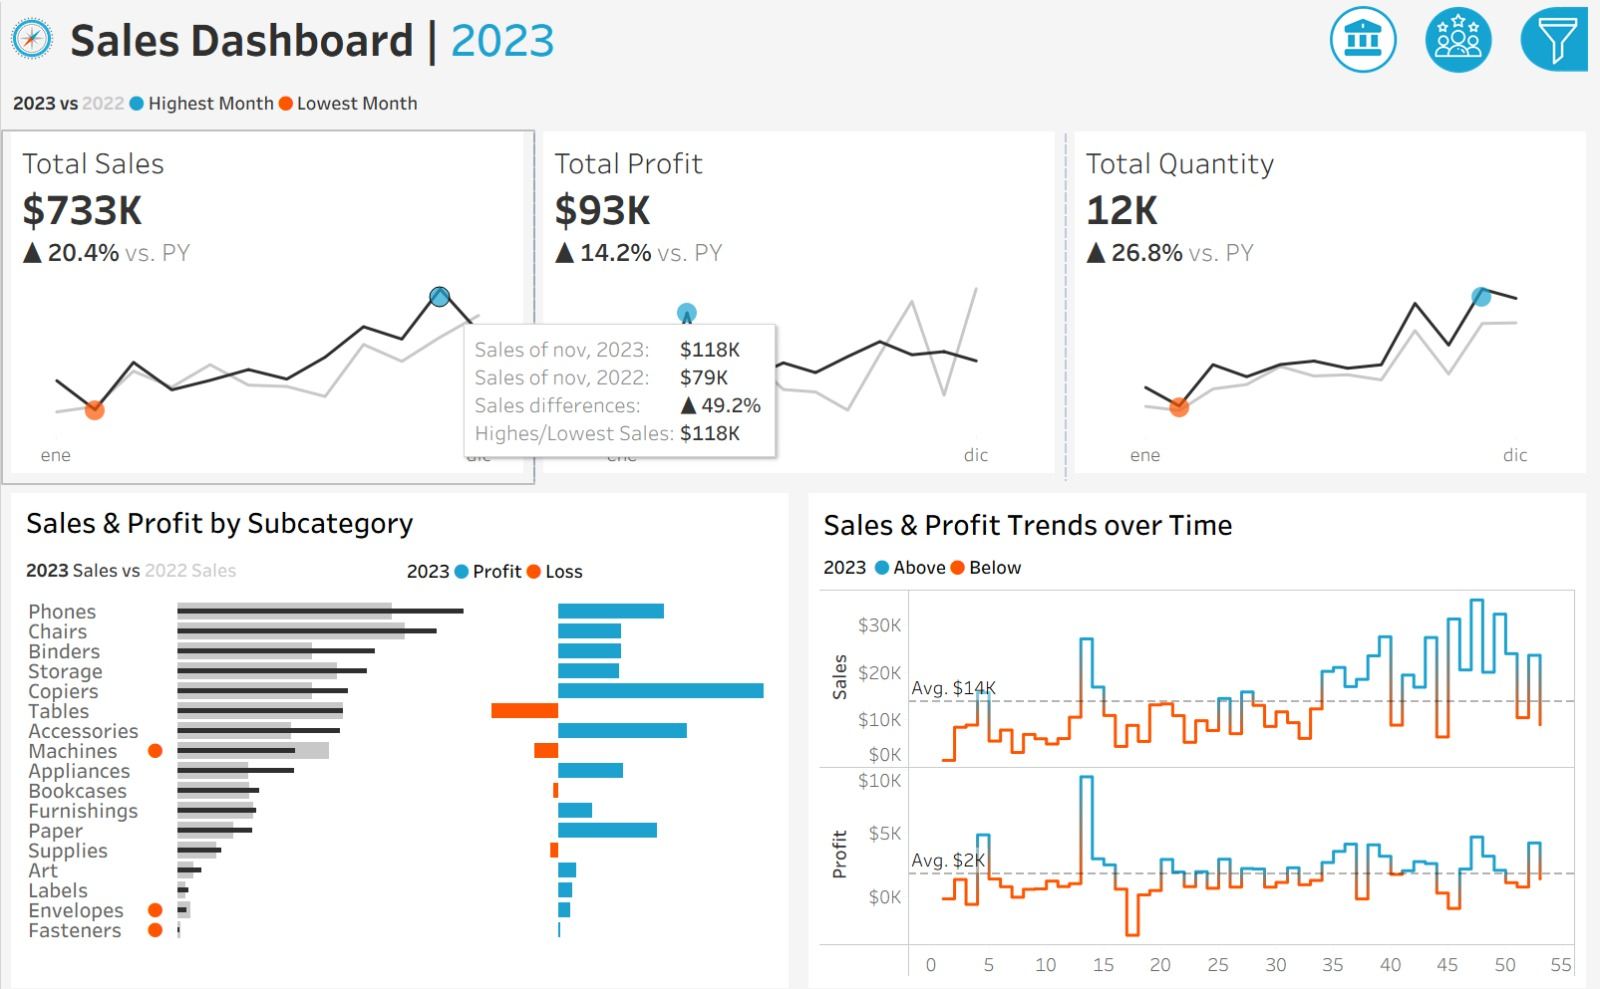

This screenshot's page, from the dashboard's own definition file:
{"tool":"tableau","page":{"name":"Sales Dashboard","canvas":[1600,1000],"ordinal":1},"visuals":[{"type":"image","param":"C:/Users/thean/Documents/Tableau/Curso Udemy/sales-dashboard-project (1)/sales-d","box":[0,0,61,72]},{"type":"text","box":[61,0,866,72]},{"type":"blank","box":[1244.7,10,342.7,90]},{"type":"worksheet","title":"Legends KPI","mark":"Automatic","box":[0,72,1600,58]},{"type":"text","box":[1244.7,100,342.7,47]},{"type":"worksheet","title":"KPI Sales","mark":"Automatic","rows":["Calculation_0924144765349892"],"cols":["Order Date"],"box":[0,130,534,353]},{"type":"worksheet","title":"KPI Profit","mark":"Automatic","rows":["Calculation_1171260201799683"],"cols":["Order Date"],"box":[534,130,533,353]},{"type":"worksheet","title":"KPI Quantity","mark":"Automatic","rows":["Calculation_1171260283650057"],"cols":["Order Date"],"box":[1067,130,533,353]},{"type":"parameter","param":"[Parameters].[Parámetro 1]","box":[1244.7,147,342.7,60]},{"type":"text","box":[1244.7,207,342.7,42]},{"type":"filter","title":"KPI Sales","param":"[federated.1usaflp05rs750141jv3z0yhu4k8].[none:Category:nk]","box":[1244.7,249,342.7,70]},{"type":"filter","title":"KPI Sales","param":"[federated.1usaflp05rs750141jv3z0yhu4k8].[none:Sub-Category:nk]","box":[1244.7,319,342.7,70]},{"type":"text","box":[1244.7,389,342.7,42]},{"type":"filter","title":"KPI Sales","param":"[federated.1usaflp05rs750141jv3z0yhu4k8].[none:Region:nk]","box":[1244.7,431,342.7,70]},{"type":"text","box":[17,500,766,44]},{"type":"text","box":[817,500,766,47]},{"type":"filter","title":"KPI Sales","param":"[federated.1usaflp05rs750141jv3z0yhu4k8].[none:State:nk]","box":[1244.7,501,342.7,70]},{"type":"worksheet","title":"Legends Subcategories","mark":"Automatic","box":[17,544,382,53]},{"type":"text","box":[399,544,384,53]},{"type":"text","box":[817,547,766,39]},{"type":"filter","title":"KPI Sales","param":"[federated.1usaflp05rs750141jv3z0yhu4k8].[none:City:nk]","box":[1244.7,571,342.7,70]},{"type":"worksheet","title":"Weekly Trends","mark":"Automatic","rows":["Calculation_0924144758165504","Calculation_1171260200882176"],"cols":["Order Date"],"box":[817,586,766,397]},{"type":"worksheet","title":"Subcategory Comparison","mark":"Bar","rows":["Sub-Category","Calculation_1171260304085005"],"cols":["CY sales (copia)_0924144758652929","Calculation_0924144758165504","Calculation_1171260200882176"],"box":[17,597,766,386]}]}

Visuals, with their boxes in screenshot pixels (x1, y1, x2, y2), scaled from the page's 1600x1000 canvas onto the 1600x989 screenshot:
image: l=0, t=0, r=61, b=71
text: l=61, t=0, r=927, b=71
blank: l=1245, t=10, r=1587, b=99
"Legends KPI" worksheet: l=0, t=71, r=1599, b=129
text: l=1245, t=99, r=1587, b=145
"KPI Sales" worksheet: l=0, t=129, r=534, b=478
"KPI Profit" worksheet: l=534, t=129, r=1067, b=478
"KPI Quantity" worksheet: l=1067, t=129, r=1599, b=478
parameter: l=1245, t=145, r=1587, b=205
text: l=1245, t=205, r=1587, b=246
"KPI Sales" filter: l=1245, t=246, r=1587, b=315
"KPI Sales" filter: l=1245, t=315, r=1587, b=385
text: l=1245, t=385, r=1587, b=426
"KPI Sales" filter: l=1245, t=426, r=1587, b=495
text: l=17, t=494, r=783, b=538
text: l=817, t=494, r=1583, b=541
"KPI Sales" filter: l=1245, t=495, r=1587, b=565
"Legends Subcategories" worksheet: l=17, t=538, r=399, b=590
text: l=399, t=538, r=783, b=590
text: l=817, t=541, r=1583, b=580
"KPI Sales" filter: l=1245, t=565, r=1587, b=634
"Weekly Trends" worksheet: l=817, t=580, r=1583, b=972
"Subcategory Comparison" worksheet (Bar marks): l=17, t=590, r=783, b=972
